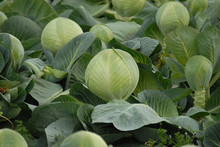cabbage: (75, 44, 169, 123), (33, 12, 97, 70), (139, 1, 210, 42), (175, 49, 215, 116), (59, 125, 114, 147), (1, 27, 23, 80), (1, 125, 39, 147)
